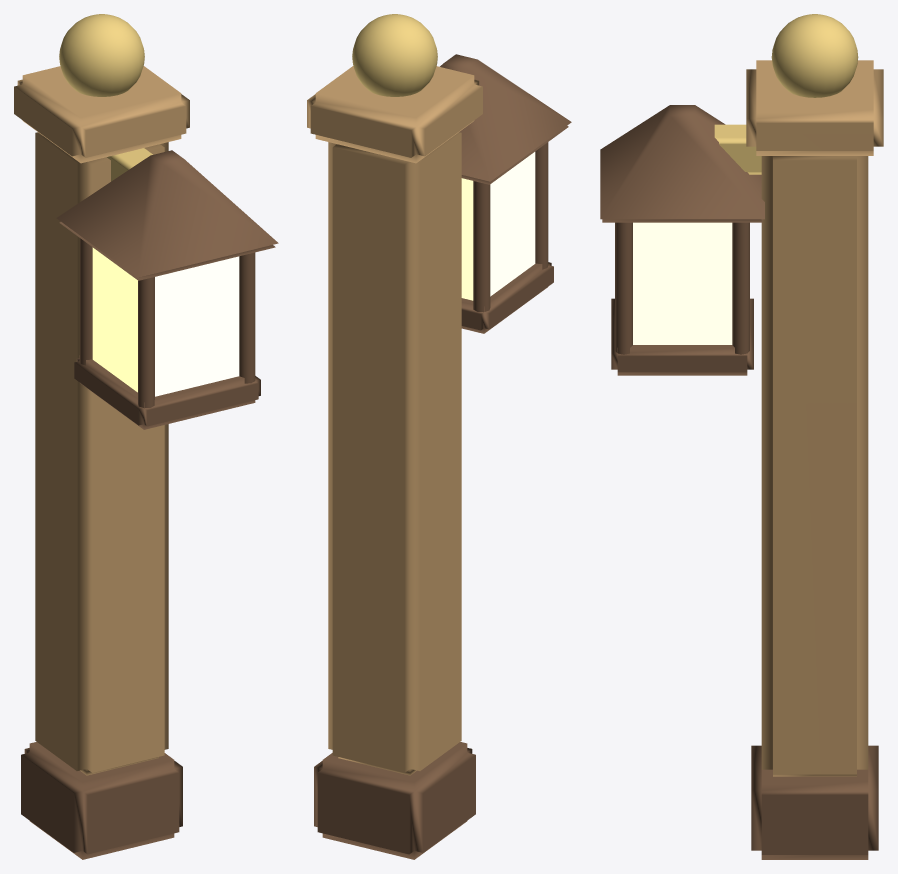
The model's file is boss_lantern_post.glb.
3 views of the same model, side by side, from view 1: azimuth 30°, elevation 25°; view 2: azimuth 150°, elevation 25°; view 3: azimuth 270°, elevation 25° (orthographic).
Parts seen in each view (by area): view 1: Shaft, LanternRoof, LanternCore, Foot, Cap, Finial, LanternBase, Strut_-0.23_-0.75, Strut_0.23_-0.75, Strut_-0.23_-0.29000000000000004, BracketArm; view 2: Shaft, Foot, Cap, LanternRoof, LanternCore, Finial, LanternBase, Strut_-0.23_-0.29000000000000004, Strut_-0.23_-0.75; view 3: Shaft, LanternRoof, LanternCore, Foot, Cap, Finial, LanternBase, Strut_0.23_-0.29000000000000004, Strut_0.23_-0.75, BracketArm.
Boxes of the visible parts, box(x1,y1,x2,y2) form: Shaft: box(35, 132, 168, 775); LanternRoof: box(56, 150, 278, 280); LanternCore: box(92, 247, 239, 396); Foot: box(21, 742, 182, 859); Cap: box(14, 66, 189, 163); Finial: box(59, 14, 144, 96); LanternBase: box(74, 355, 260, 429); Strut_-0.23_-0.75: box(138, 277, 154, 408); Strut_0.23_-0.75: box(239, 252, 255, 383); Strut_-0.23_-0.29000000000000004: box(80, 238, 92, 365); BracketArm: box(107, 148, 152, 181); Shaft: box(328, 132, 461, 775); Foot: box(314, 742, 475, 859); Cap: box(307, 66, 482, 163); LanternRoof: box(440, 54, 571, 184); LanternCore: box(461, 152, 535, 300); Finial: box(352, 14, 437, 96); LanternBase: box(461, 262, 553, 333); Strut_-0.23_-0.29000000000000004: box(473, 181, 490, 312); Strut_-0.23_-0.75: box(535, 142, 548, 269); Shaft: box(761, 156, 868, 776); LanternRoof: box(600, 105, 764, 222); LanternCore: box(633, 222, 732, 344); Foot: box(751, 745, 878, 859); Cap: box(746, 60, 883, 155); Finial: box(771, 14, 858, 97); LanternBase: box(611, 298, 753, 375); Strut_0.23_-0.29000000000000004: box(732, 222, 749, 354); Strut_0.23_-0.75: box(615, 222, 632, 354); BracketArm: box(714, 124, 761, 174).
Size of the model in its own units: 0.6464 by 3.55 by 1.11.
